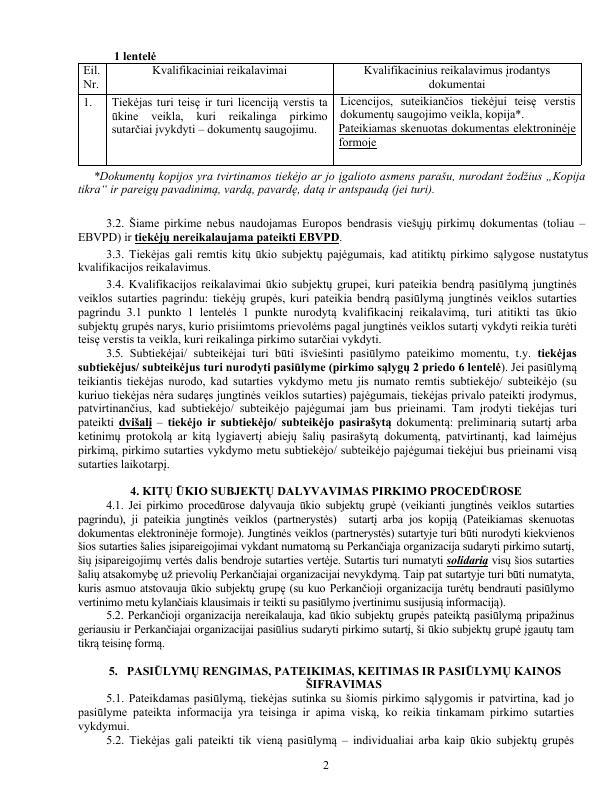table: (75, 61, 584, 168)
text: (76, 217, 580, 473), (75, 483, 576, 654), (77, 666, 577, 749), (77, 171, 588, 198)
